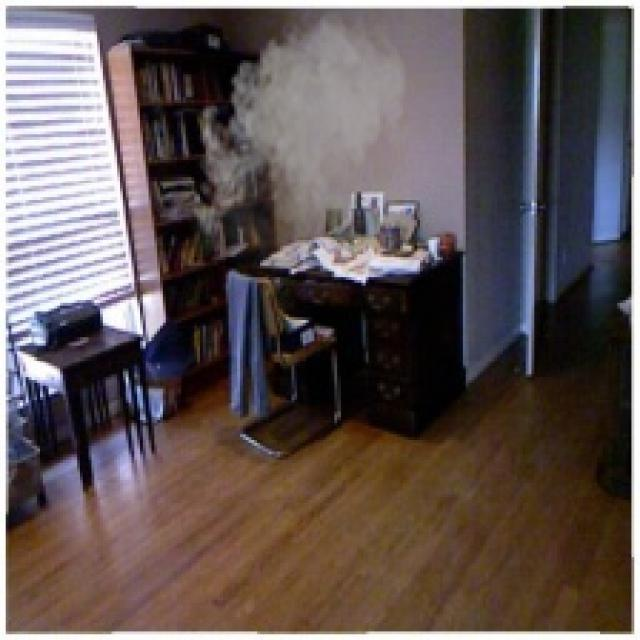Smoke: (186, 2, 414, 268)
